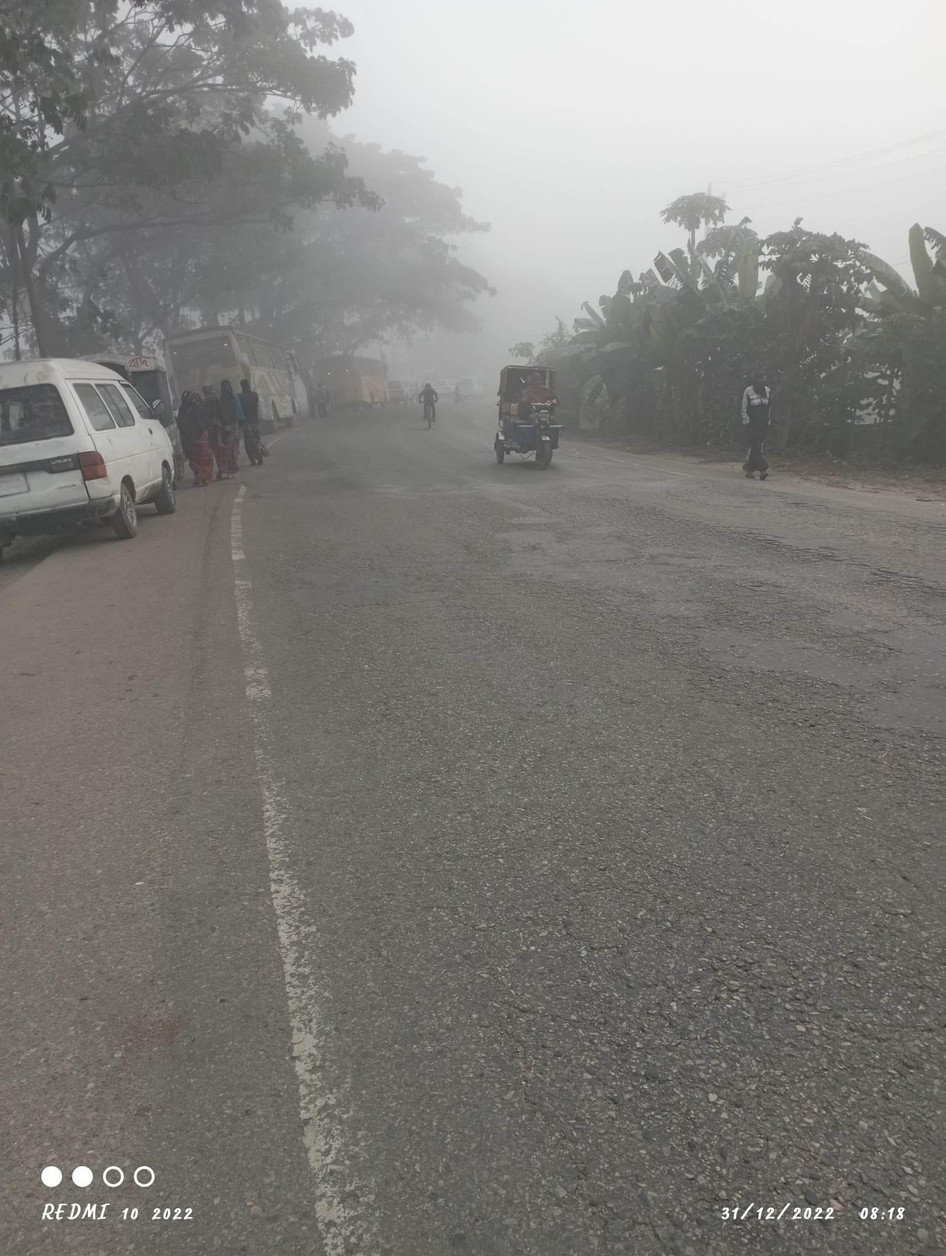Bus: (161, 310, 315, 447), (317, 331, 412, 424)
Car: (1, 345, 195, 557), (484, 350, 592, 486)
